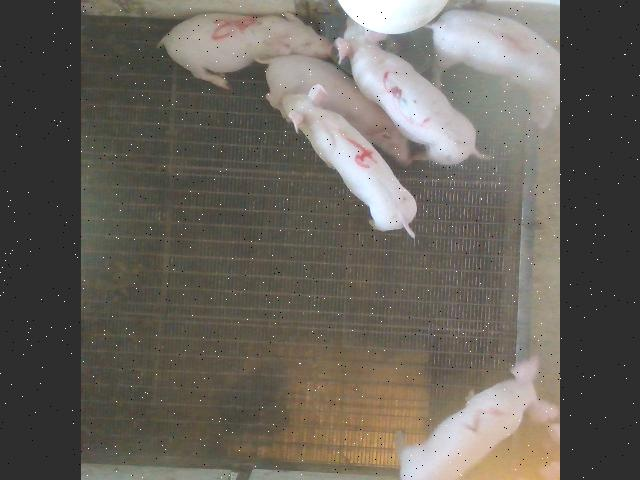pig-1: (430, 10, 559, 99)
pig-2: (399, 356, 557, 480)
pig-3: (334, 20, 478, 164)
pig-4: (281, 85, 416, 238)
pig-5: (159, 14, 331, 89)
